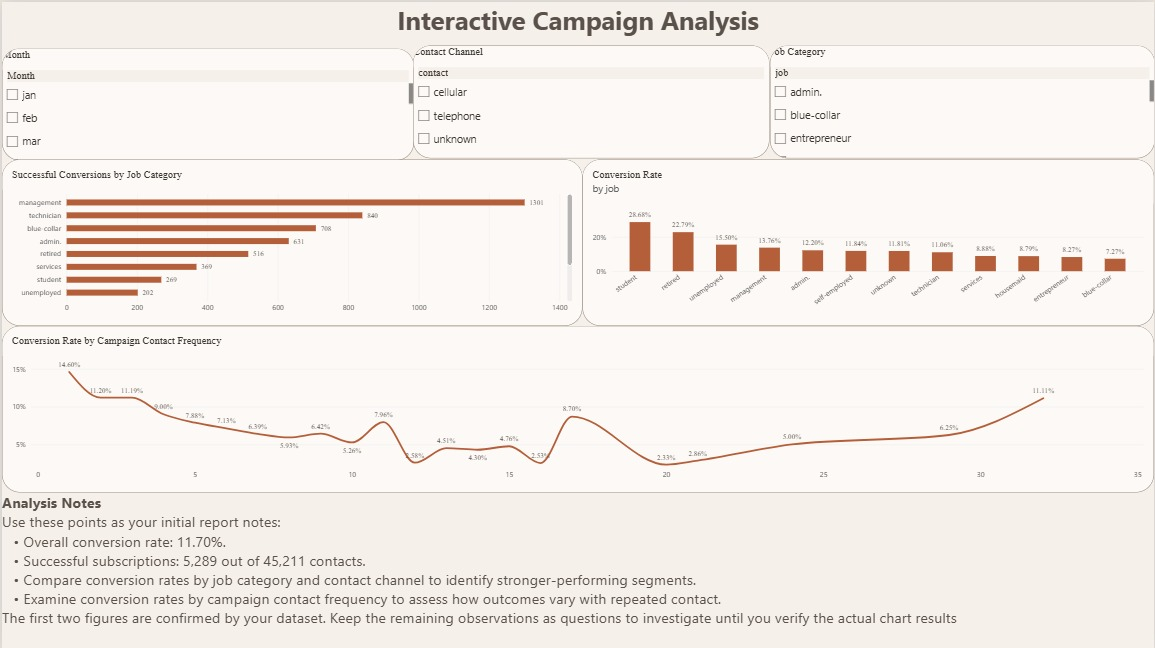

What the dashboard file says about the page in this screenshot:
{"tool":"powerbi","page":{"name":"Campaign Analysis","canvas":[1920,1080],"ordinal":1},"visuals":[{"type":"textbox","box":[0,0,1920,76.7],"z":0},{"type":"slicer","title":"Month","fields":{"Values":["MonthLookup.Month"]},"box":[0,76.7,686.7,186.7],"z":1},{"type":"slicer","title":"Contact Channel","fields":{"Values":["BankMarketing.contact"]},"box":[685.3,73.5,594.1,188.2],"z":2},{"type":"slicer","title":"Job Category","fields":{"Values":["BankMarketing.job"]},"box":[1279.4,73.5,641.2,188.2],"z":3},{"type":"clusteredBarChart","title":"Successful Conversions by Job Category","fields":{"Category":["BankMarketing.job"],"Y":["BankMarketing.Successful Conversions"]},"box":[0,262.5,967.5,277.5],"z":4},{"type":"clusteredColumnChart","fields":{"Category":["BankMarketing.job"],"Y":["BankMarketing.Conversion Rate"]},"box":[967.5,262.5,952.5,277.5],"z":5},{"type":"lineChart","title":"Conversion Rate by Campaign Contact Frequency","fields":{"Category":["BankMarketing.campaign"],"Y":["BankMarketing.Conversion Rate"]},"box":[0,540,1920,277.5],"z":6},{"type":"textbox","box":[0,816.7,1920,263.3],"z":7}]}

Visuals, with their boxes in screenshot pixels (x1, y1, x2, y2), scaled from the page's 1920x1080 canvas onto the 1155x648 screenshot:
textbox: (left=0, top=0, right=1154, bottom=46)
"Month" slicer: (left=0, top=46, right=413, bottom=158)
"Contact Channel" slicer: (left=412, top=44, right=770, bottom=157)
"Job Category" slicer: (left=770, top=44, right=1154, bottom=157)
"Successful Conversions by Job Category" clusteredBarChart: (left=0, top=158, right=582, bottom=324)
clusteredColumnChart - BankMarketing.job x BankMarketing.Conversion Rate: (left=582, top=158, right=1154, bottom=324)
"Conversion Rate by Campaign Contact Frequency" lineChart: (left=0, top=324, right=1154, bottom=490)
textbox: (left=0, top=490, right=1154, bottom=647)
